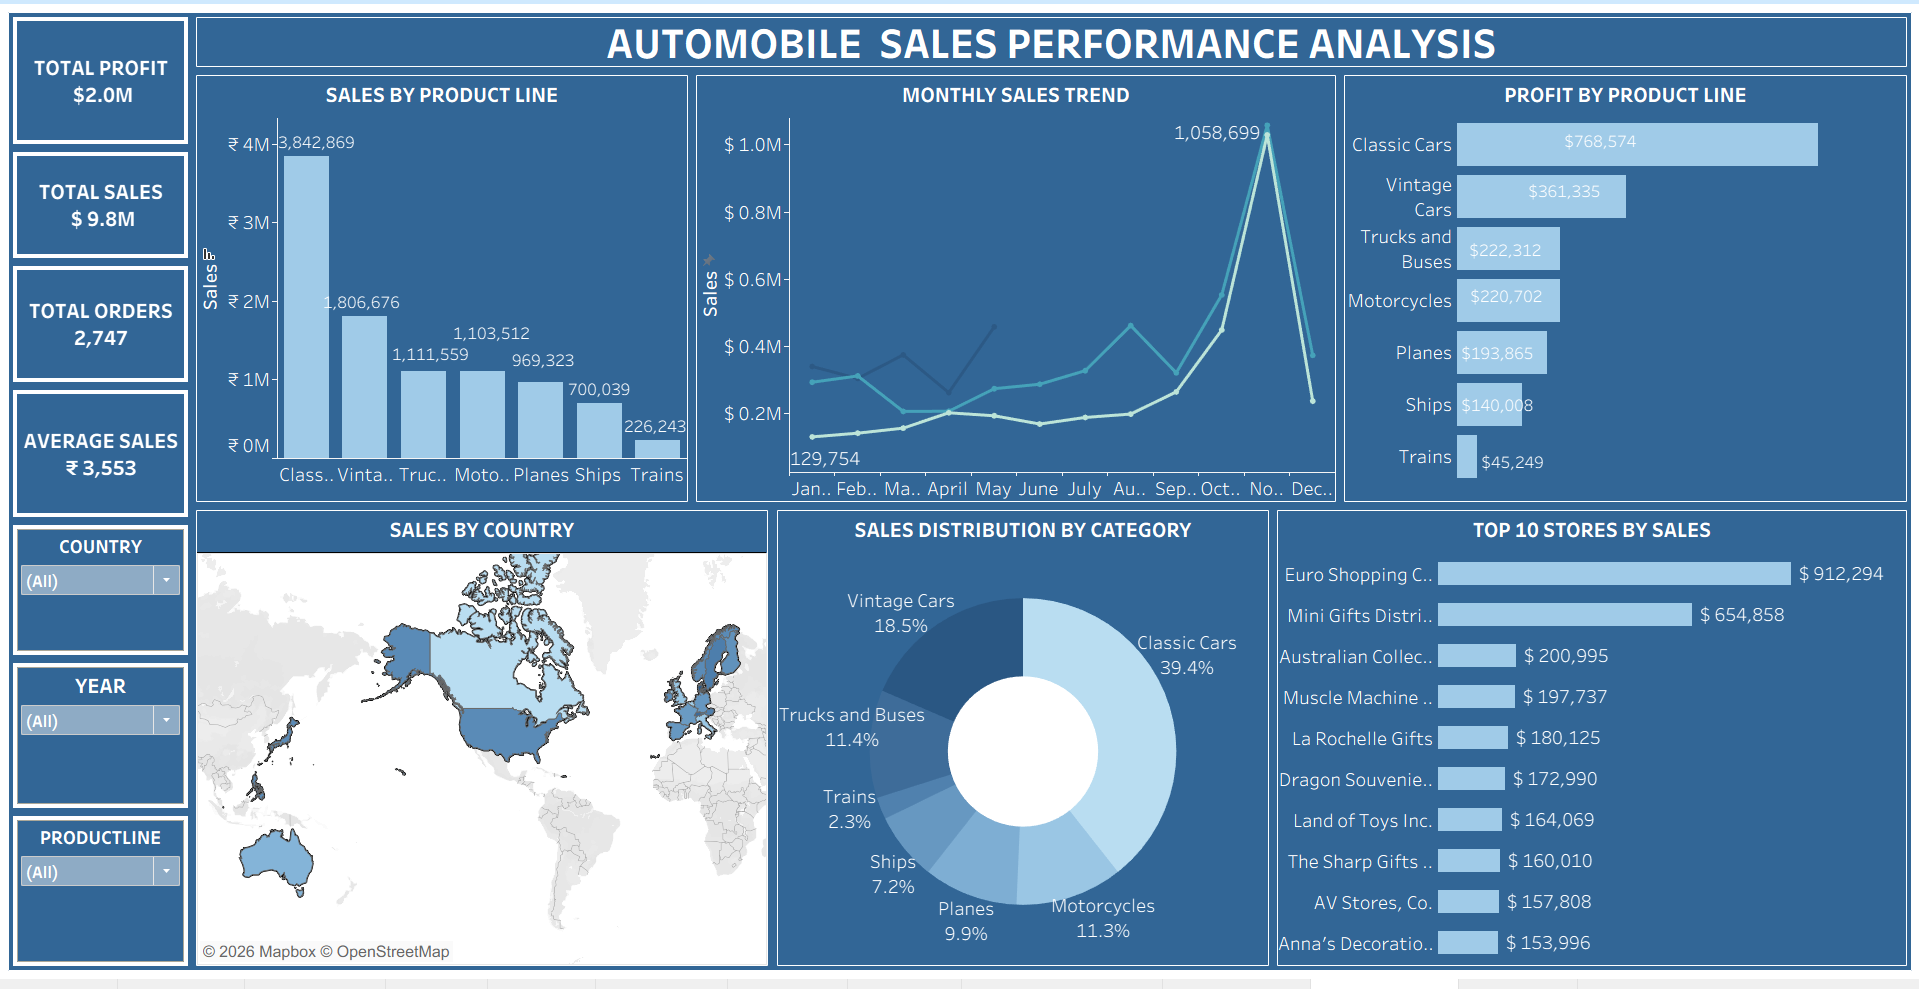

The page's visual inventory and layout, read from the dashboard file:
{"tool":"tableau","page":{"name":"Dashboard 5","canvas":[1000,1000],"units":"permille","ordinal":1},"visuals":[{"type":"filter","title":"Bar Chart","param":"[federated.1v5uwab14pdwtn12cqi2319hfvjg].[none:COUNTRY:nk]","box":[4.2,10.7,96,155.6]},{"type":"title","box":[100.2,10.7,895.5,71]},{"type":"worksheet","title":"Bar Chart","mark":"Automatic","rows":["SALES"],"cols":["PRODUCTLINE"],"box":[100.2,81.8,265.7,417]},{"type":"worksheet","title":"Line Chart","mark":"Line","rows":["SALES"],"cols":["MONTH"],"box":[365.9,81.8,344.3,417]},{"type":"worksheet","title":"Profit by product line","mark":"Automatic","rows":["PRODUCTLINE"],"cols":["PROFIT_ESTIMATE"],"box":[710.2,81.8,285.5,417]},{"type":"filter","title":"Bar Chart","param":"[federated.1v5uwab14pdwtn12cqi2319hfvjg].[none:PRODUCTLINE:nk]","box":[4.2,166.3,96,139.9]},{"type":"filter","title":"Bar Chart","param":"[federated.1v5uwab14pdwtn12cqi2319hfvjg].[none:YEAR:ok]","box":[4.2,306.2,96,139.6]},{"type":"worksheet","title":"Total Profit","mark":"Automatic","box":[4.2,445.8,96,90.1]},{"type":"worksheet","title":"Mapp Chart","mark":"Automatic","box":[100.2,498.8,302.4,490.5]},{"type":"worksheet","title":"Donut Chartt","mark":"Pie","cols":["Calculation_1285111227727873","Calculation_1285111227756547"],"box":[402.7,498.8,259.8,490.5]},{"type":"worksheet","title":"Top Stores","mark":"Automatic","rows":["STORES"],"cols":["SALES"],"box":[662.5,498.8,333.2,490.5]},{"type":"worksheet","title":"Total Sales ","mark":"Automatic","box":[4.2,535.9,96,152.8]},{"type":"worksheet","title":"Average Sales","mark":"Automatic","box":[4.2,688.7,96,137.9]},{"type":"worksheet","title":"Total Orders","mark":"Automatic","box":[4.2,826.6,96,162.6]}]}

Visuals, with their boxes on the dashboard's canvas, which has no fixed pixel size, in thousandths of its width and height (x1, y1, x2, y2). These are canvas units, not pixel positions in the 1919x989 screenshot, which may show the page scaled, cropped or inside an application window:
"Bar Chart" filter: (left=4, top=11, right=100, bottom=166)
title: (left=100, top=11, right=996, bottom=82)
"Bar Chart" worksheet: (left=100, top=82, right=366, bottom=499)
"Line Chart" worksheet (Line marks): (left=366, top=82, right=710, bottom=499)
"Profit by product line" worksheet: (left=710, top=82, right=996, bottom=499)
"Bar Chart" filter: (left=4, top=166, right=100, bottom=306)
"Bar Chart" filter: (left=4, top=306, right=100, bottom=446)
"Total Profit" worksheet: (left=4, top=446, right=100, bottom=536)
"Mapp Chart" worksheet: (left=100, top=499, right=403, bottom=989)
"Donut Chartt" worksheet (Pie marks): (left=403, top=499, right=662, bottom=989)
"Top Stores" worksheet: (left=662, top=499, right=996, bottom=989)
"Total Sales " worksheet: (left=4, top=536, right=100, bottom=689)
"Average Sales" worksheet: (left=4, top=689, right=100, bottom=827)
"Total Orders" worksheet: (left=4, top=827, right=100, bottom=989)
